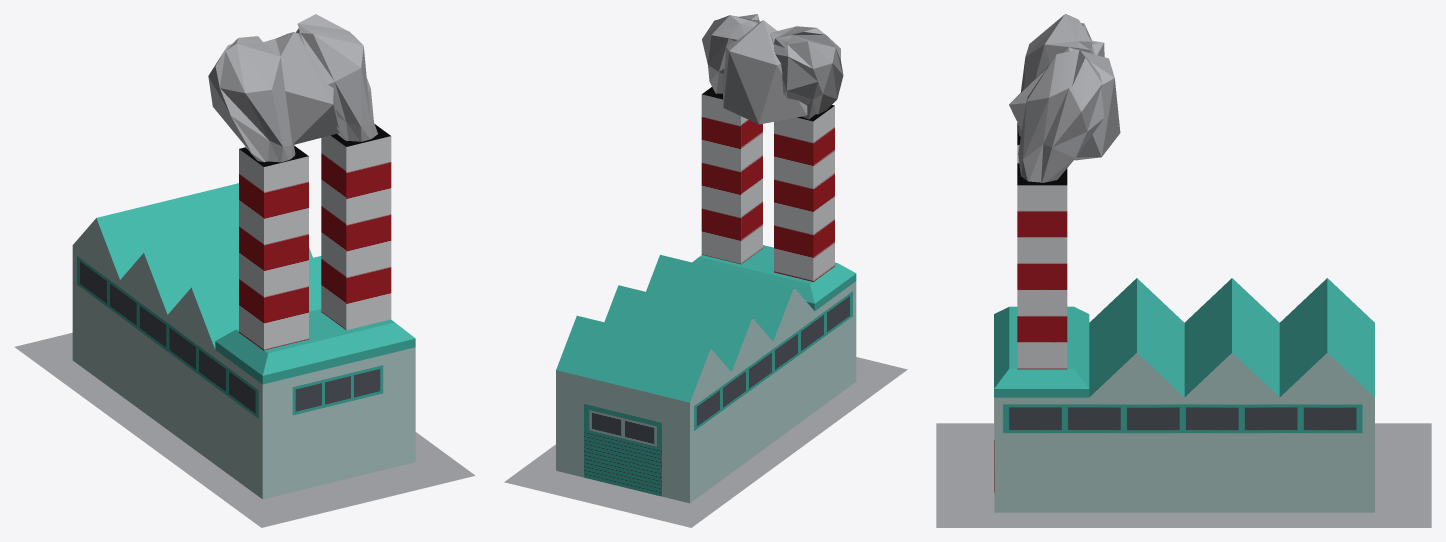
The model's file is atelier.glb.
The picture shows the model from 3 angles, left to right: view 1: azimuth 30°, elevation 25°; view 2: azimuth 150°, elevation 25°; view 3: azimuth 270°, elevation 25°; orthographic projection. The views are drawn at different scales.
Visible parts, largest first — view 1: Icosphère.001, Icosphère.002; view 2: Icosphère.001, Icosphère.002; view 3: Icosphère.001, Icosphère.002.
Boxes of the visible parts, box(x1,y1,x2,y2) form: Icosphère.001: box(15, 14, 475, 527); Icosphère.002: box(275, 32, 339, 144); Icosphère.001: box(504, 14, 907, 527); Icosphère.002: box(722, 20, 807, 124); Icosphère.001: box(936, 14, 1431, 527); Icosphère.002: box(1009, 47, 1120, 160).
Size of the model in its own units: 10.44 by 19.94 by 20.89.
Materials: 1 (1 with a texture image).
